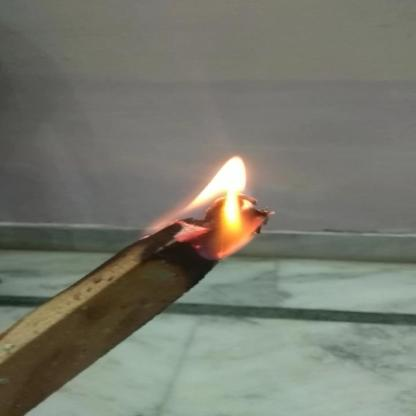fire: (146, 149, 280, 261)
